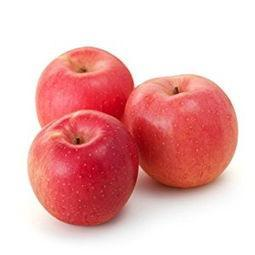apple: (124, 73, 239, 188), (27, 110, 139, 226), (34, 45, 133, 125)
